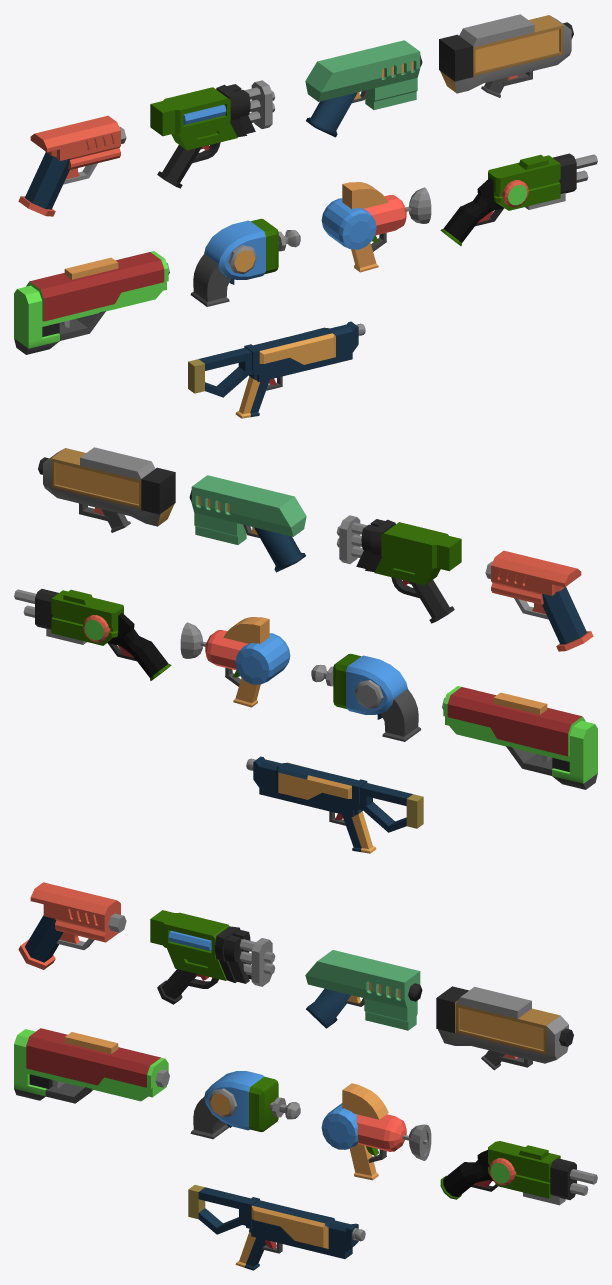
The picture shows the model from 3 angles, top to bottom: view 1: azimuth 30°, elevation 25°; view 2: azimuth 150°, elevation 25°; view 3: azimuth 330°, elevation 25°; orthographic projection.
Parts seen in each view (by area): view 1: Cube.002, Plane.019, Plane.006, Cube.007, Cylinder.017, Cube.001, Plane, Cylinder.013, Plane.010, Cylinder.008; view 2: Cube.002, Plane.019, Plane.006, Cube.007, Cylinder.017, Cube.001, Plane, Plane.010, Cylinder.013, Cylinder.008; view 3: Cube.002, Plane.019, Plane.006, Cube.007, Cylinder.017, Cylinder.013, Plane, Cube.001, Plane.010, Cylinder.008.
Part boxes in pixels (box(x1,y1,x2,y2)): Cube.002: box(14, 251, 169, 354); Plane.019: box(439, 14, 573, 97); Plane.006: box(150, 80, 275, 188); Cube.007: box(188, 321, 365, 418); Cylinder.017: box(440, 153, 597, 245); Cube.001: box(305, 40, 420, 109); Plane: box(18, 115, 126, 216); Cylinder.013: box(321, 182, 431, 272); Plane.010: box(190, 218, 300, 306); Cylinder.008: box(306, 92, 357, 137); Cube.002: box(442, 686, 597, 789); Plane.019: box(38, 447, 175, 532); Plane.006: box(336, 515, 461, 623); Cube.007: box(246, 756, 423, 853); Cylinder.017: box(14, 589, 171, 680); Cube.001: box(191, 475, 306, 544); Plane: box(485, 550, 593, 651); Plane.010: box(311, 653, 421, 741); Cylinder.013: box(180, 617, 290, 707); Cylinder.008: box(254, 527, 305, 572); Cube.002: box(14, 1028, 169, 1103); Plane.019: box(436, 986, 573, 1070); Plane.006: box(150, 910, 275, 1004); Cube.007: box(188, 1185, 365, 1270); Cylinder.017: box(440, 1141, 597, 1205); Cylinder.013: box(321, 1083, 431, 1180); Plane: box(18, 882, 126, 969); Cube.001: box(305, 950, 420, 1030); Plane.010: box(190, 1071, 300, 1139); Cylinder.008: box(306, 988, 350, 1028).
Bounding box in the file's own units: 4.65 × 2.55 × 0.3344.
